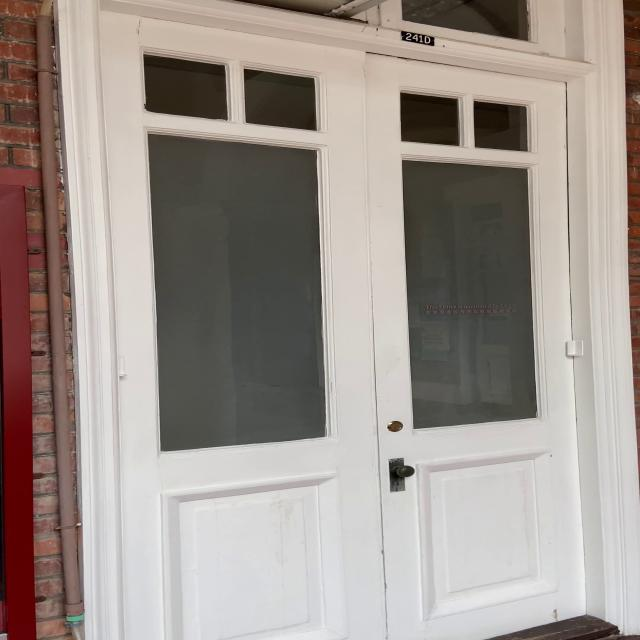room241d: (396, 30, 436, 47)
